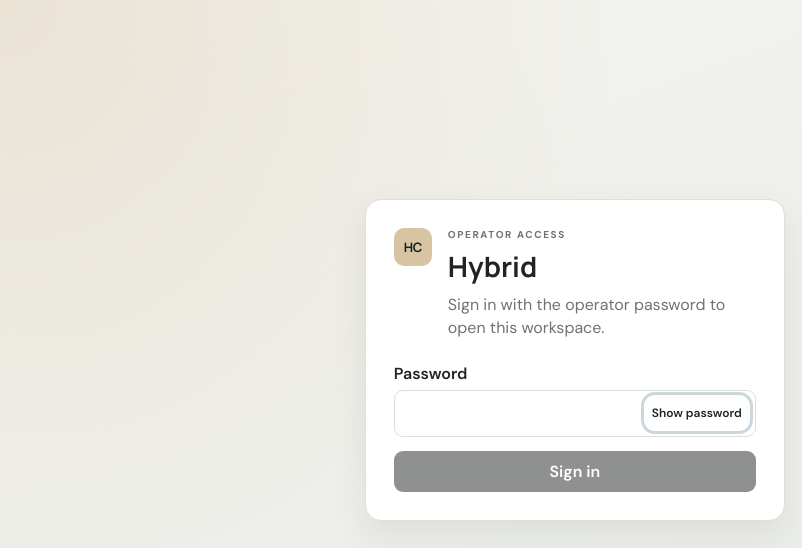
Test: LoginView › keeps the password hidden by default and announces visibility changes
Type "operator-secret" into the password field labelled "Password". click: (575, 413)
box: [394,390,756,437]
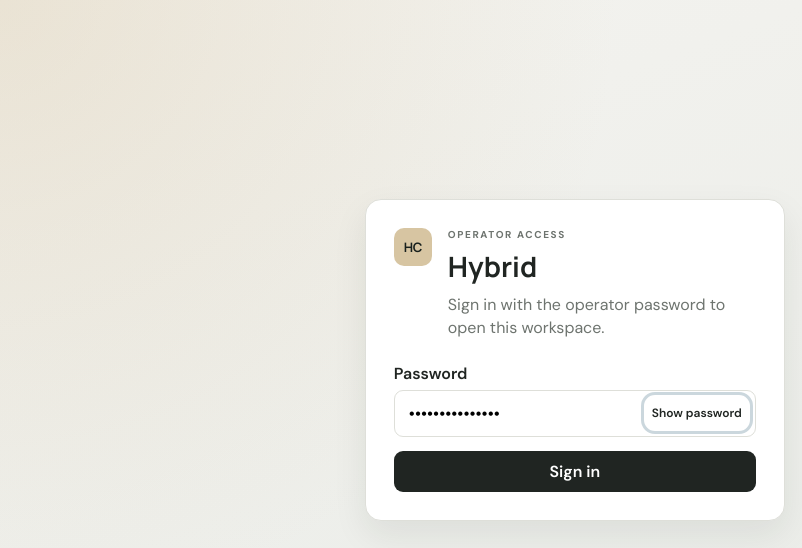
Click the button "Show password". click: (697, 413)
box: [646,397,748,429]
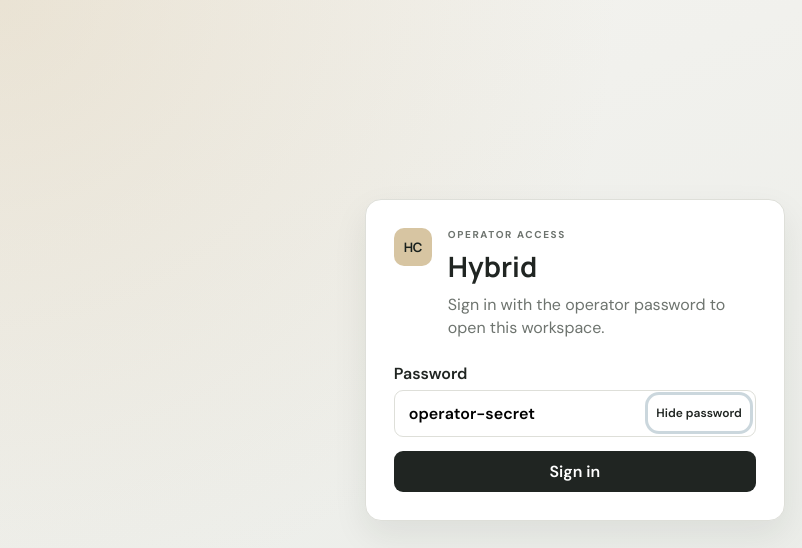
Expected: the field labelled "Password" shows its text, [394,390,756,437]
Expected: the button "Hide password" is expanded
Click the button "Hide password". click: (699, 413)
box: [650,397,748,429]
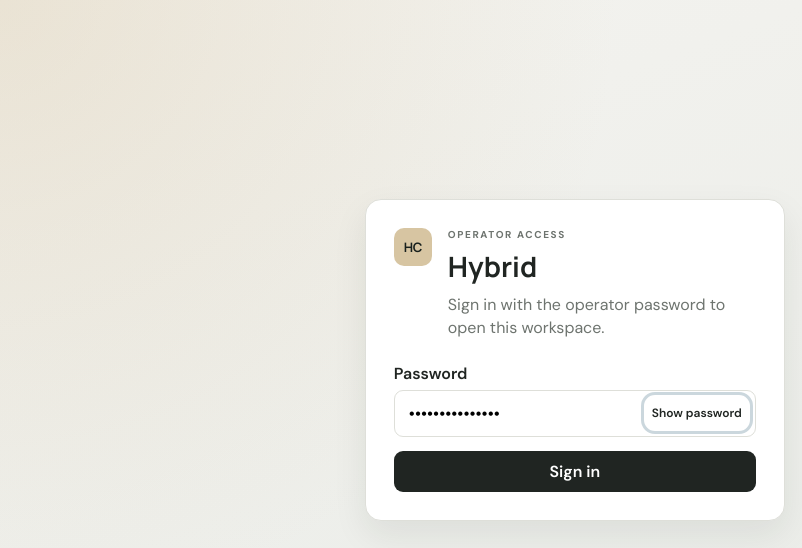
Expected: the password field labelled "Password" hides its text, [394,390,756,437]
